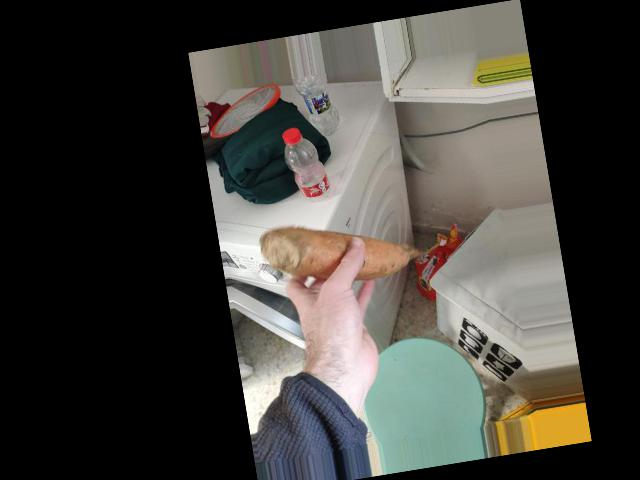sweet_potato: (260, 215, 425, 285)
